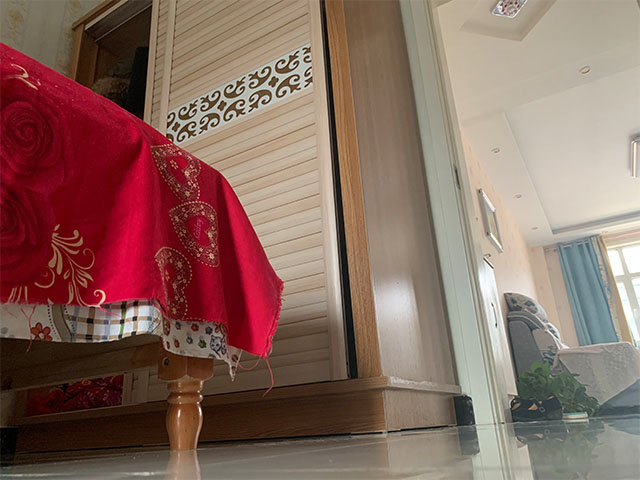bed: (1, 48, 283, 451)
cabinet: (160, 110, 462, 461)
curtain: (557, 236, 633, 342)
sofa: (502, 290, 640, 418)
